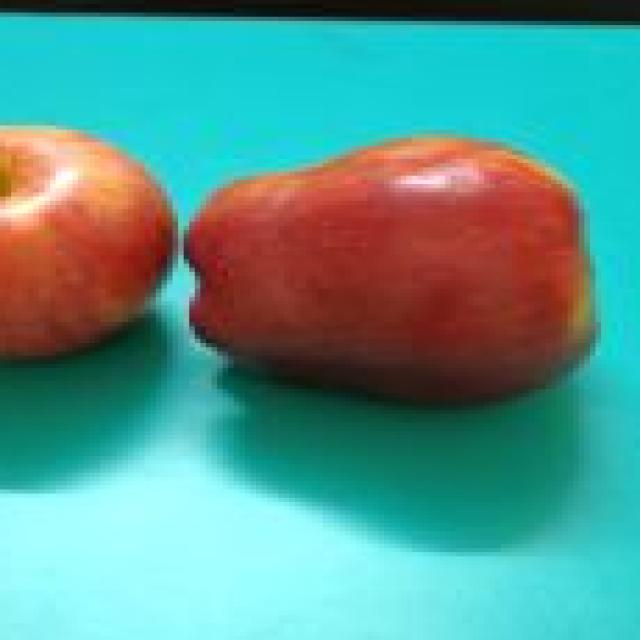Good_Apple 10-21 days: (186, 136, 593, 401), (0, 132, 175, 359)
